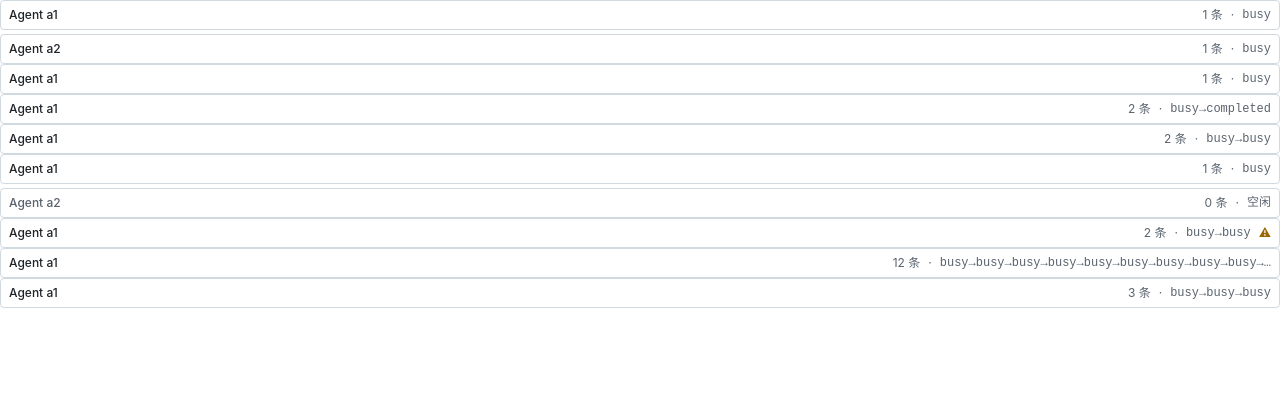
Scenario: AgentActivityPanel §7.4 / §8.5 › 8. 展开明细按 startedAt 升序排列（spec §5.5.1 规则 3）
Step 1. Click the heading "Agent a1 3 条 · busy→busy→busy" → point(33, 292), box 9,285 -> 1271,300
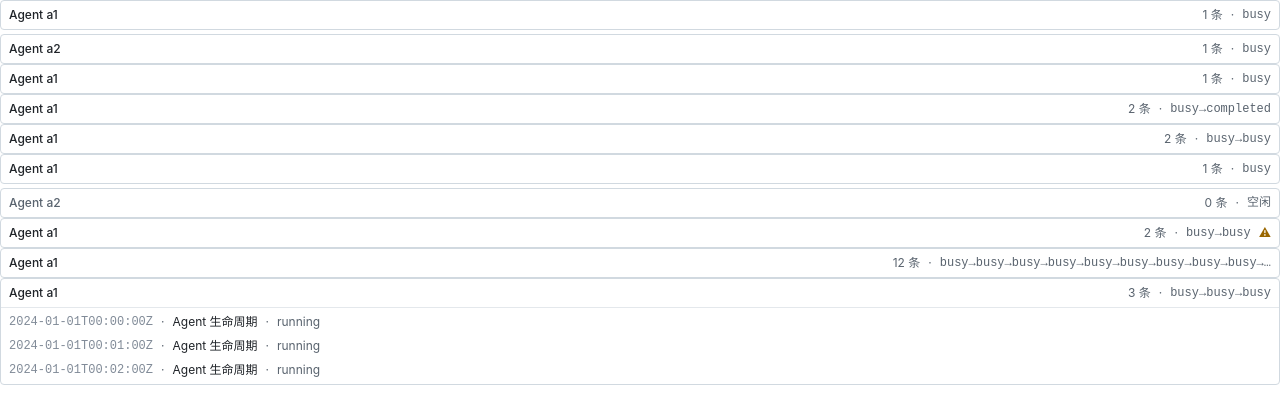
Result: the number of elements with class "collab-activity-detail-time" is 3 at 9,312 -> 153,332; 9,336 -> 153,356; 9,360 -> 153,380
Result: the text with class "collab-activity-detail-time" reads "2024-01-01T00:00:00Z" at 9,315 -> 153,329
Result: the text with class "collab-activity-detail-time" reads "2024-01-01T00:01:00Z" at 9,339 -> 153,353
